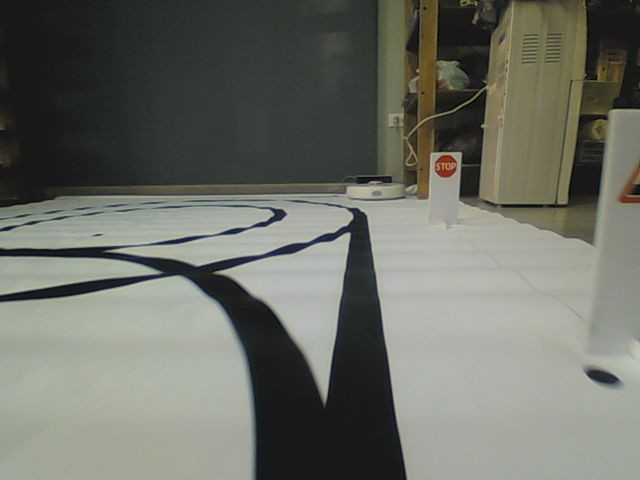Stop: (433, 153, 457, 178)
